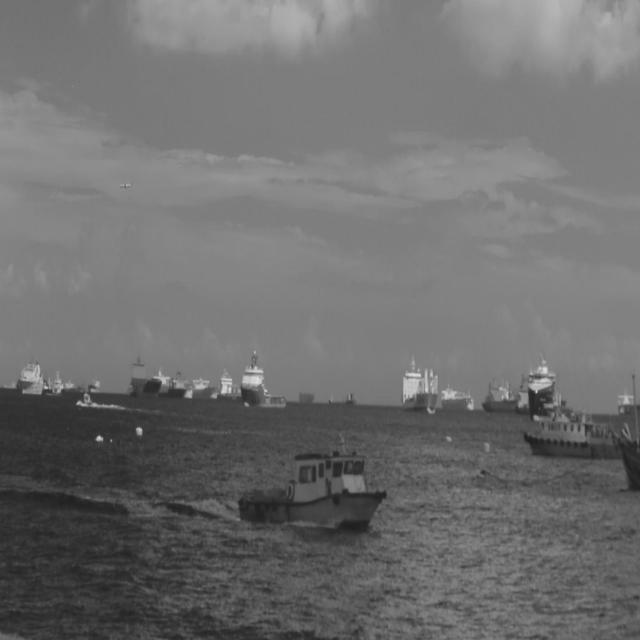buoy: (135, 426, 143, 438)
ship: (237, 426, 387, 532), (524, 385, 620, 459), (240, 345, 287, 408), (528, 348, 567, 420), (401, 353, 438, 414), (126, 354, 162, 398), (481, 371, 518, 412), (618, 429, 639, 493), (17, 354, 45, 395), (440, 380, 474, 411), (183, 372, 218, 400), (217, 363, 241, 401), (166, 362, 190, 397), (618, 386, 640, 416), (328, 392, 357, 408), (50, 368, 66, 396), (80, 389, 92, 407), (88, 377, 101, 393)
